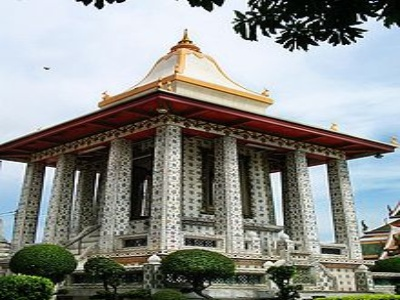mandapa: (8, 79, 387, 260)
